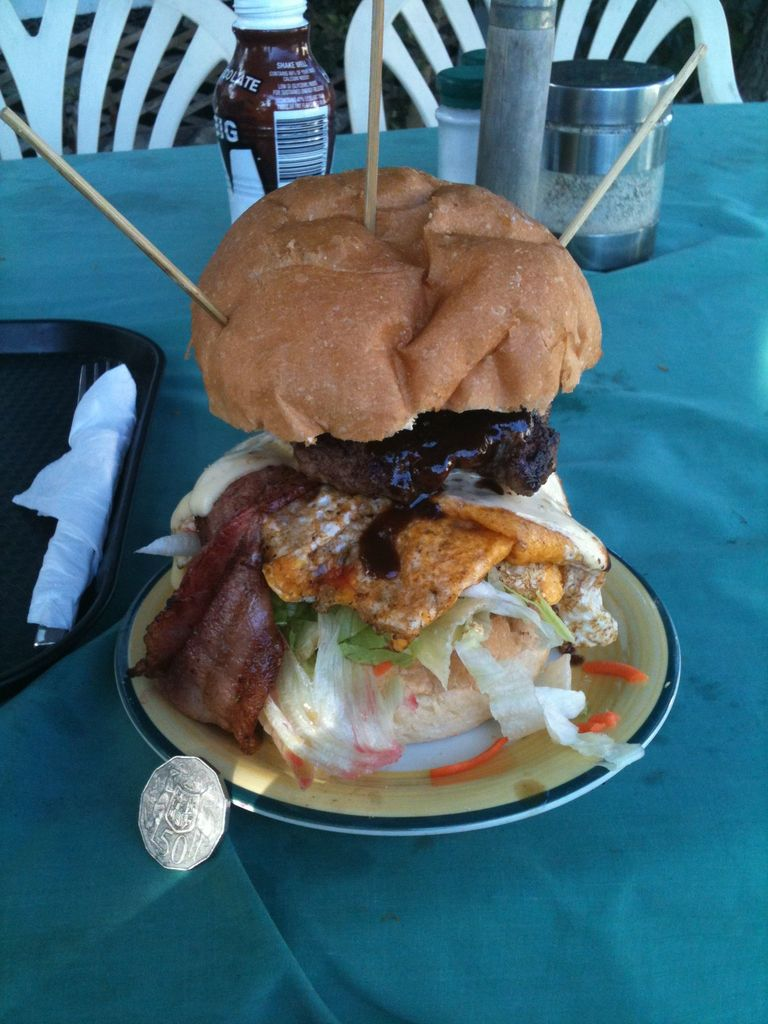Hamburger: (122, 165, 647, 784)
